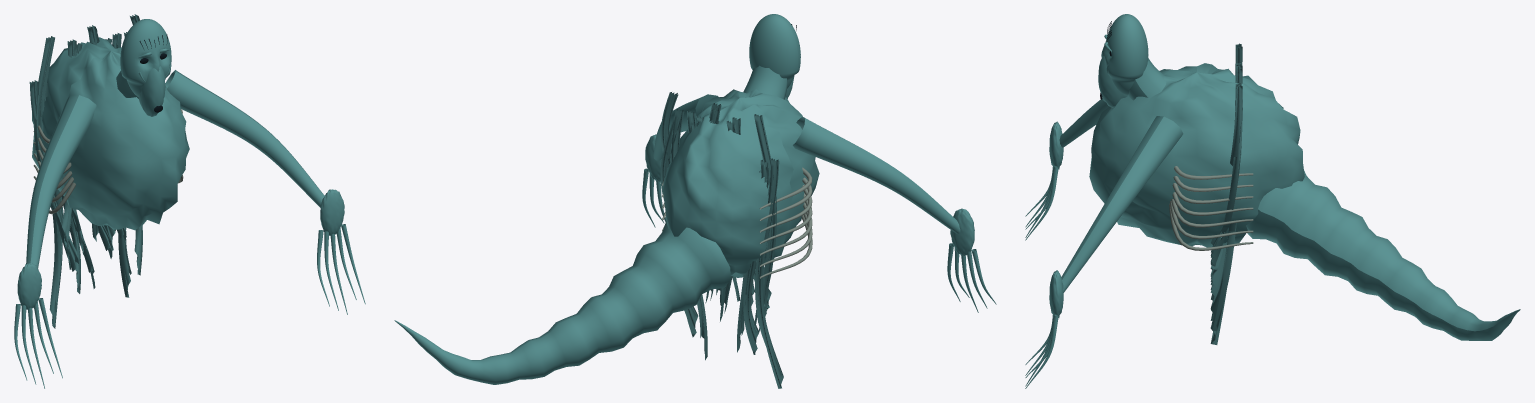
Rendered from 14-the-bone-white-bridge.glb.
The picture shows the model from 3 angles, left to right: view 1: azimuth 30°, elevation 25°; view 2: azimuth 150°, elevation 25°; view 3: azimuth 270°, elevation 25°; orthographic projection.
Visible parts, largest first — view 1: sculpt (×6); view 2: sculpt (×6); view 3: sculpt (×6).
Part boxes in pixels (x1=…): sculpt (×6): x1=14, y1=14, x2=365, y2=388; sculpt (×6): x1=394, y1=14, x2=996, y2=388; sculpt (×6): x1=1025, y1=14, x2=1520, y2=388.
Size of the model in its own units: 2.9 by 2.59 by 3.52.
